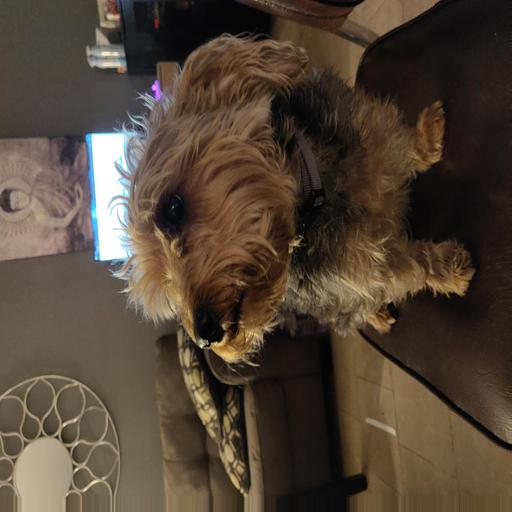dog: (111, 42, 433, 364)
